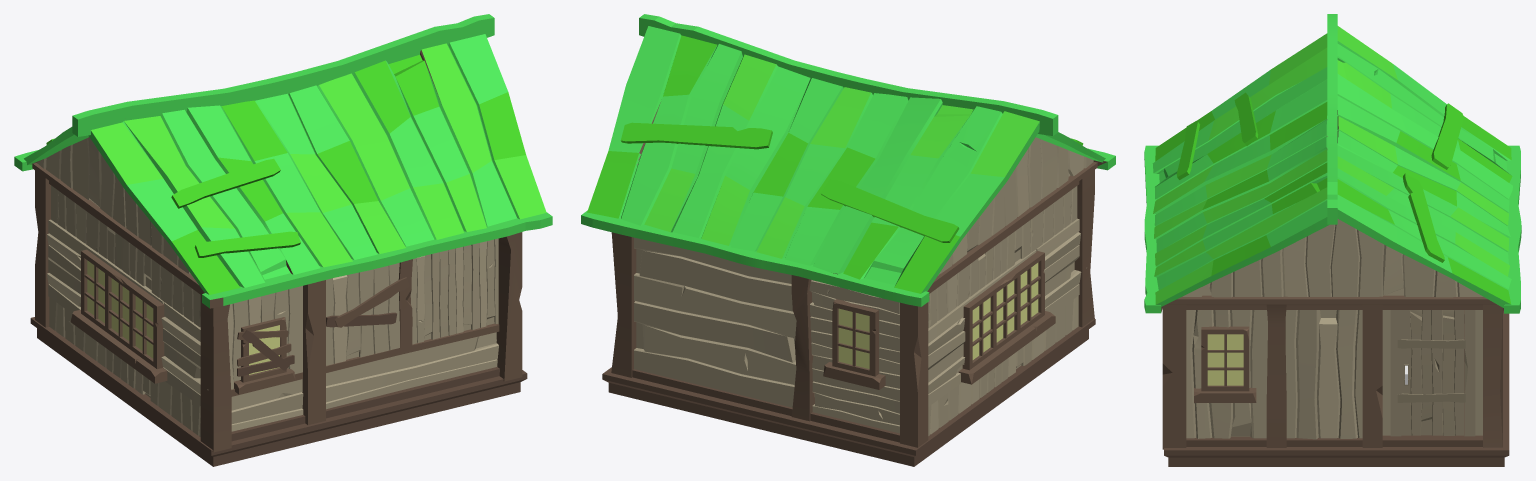
Rendered from greencoloringhouse2.fbx.
3 views of the same model, side by side, from view 1: azimuth 30°, elevation 25°; view 2: azimuth 150°, elevation 25°; view 3: azimuth 270°, elevation 25° (orthographic). The views are drawn at different scales.
Visible parts, largest first — view 1: House_1_Roof.014, House.012; view 2: House_1_Roof.014, House.012; view 3: House_1_Roof.014, House.012.
Part boxes in pixels (x1,y1,x2,y2): House_1_Roof.014: (14,14,552,308); House.012: (30,170,527,466); House_1_Roof.014: (581,14,1115,306); House.012: (602,170,1095,466); House_1_Roof.014: (1144,14,1521,313); House.012: (1162,304,1509,466).
Bounding box in the file's own units: 573 × 395 × 471.
